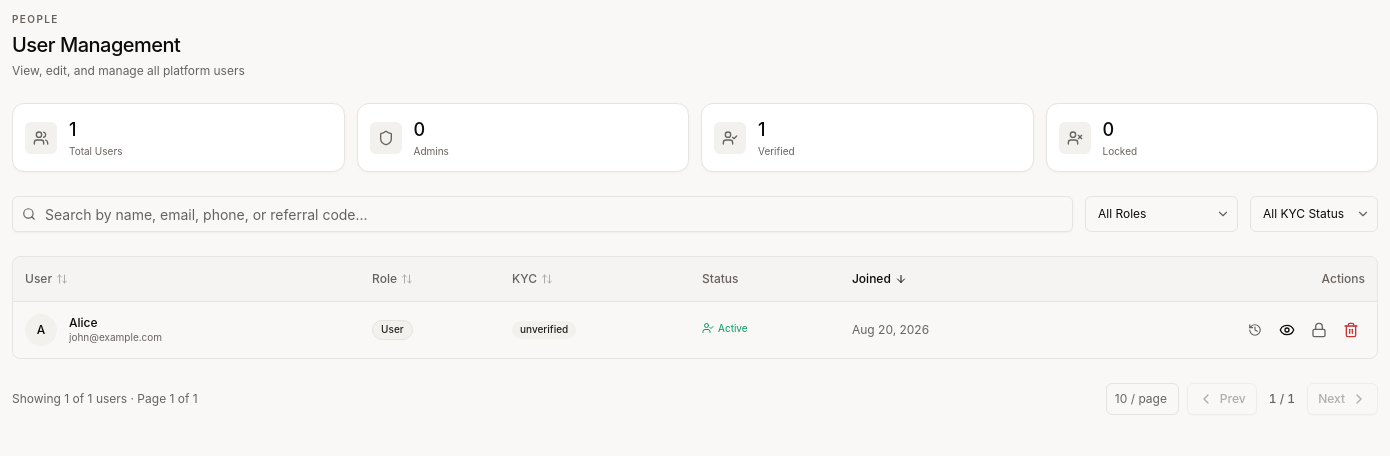
Test: AdminUsers Page › Clear Filters › clears search on Clear click
In the field with placeholder "Search by name, email, phone, or referral code...": coordinates (542, 214) [12,196,1073,232], type "zzz"
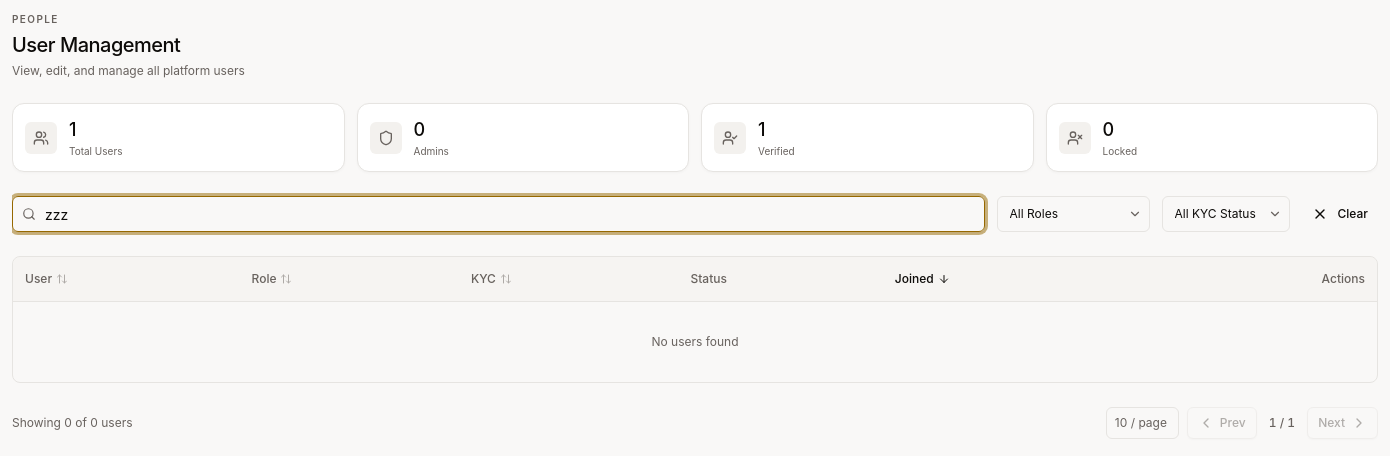
Now the text "Alice" is gone
Click the button "Clear": coordinates (1340, 214) [1302,196,1378,232]
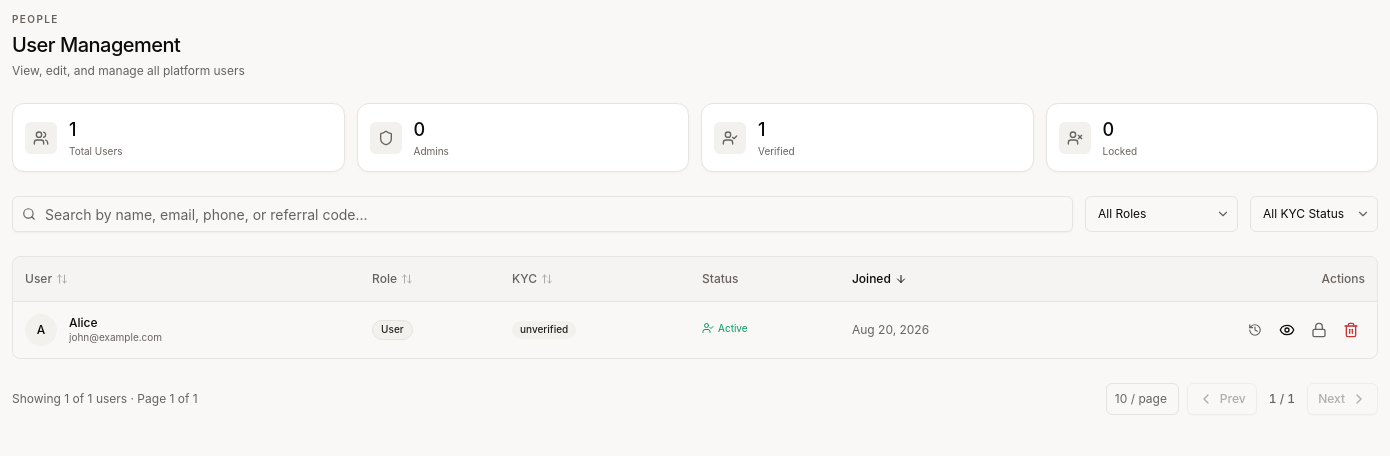
Now the text "Alice" is shown, box [69,315,98,330]
